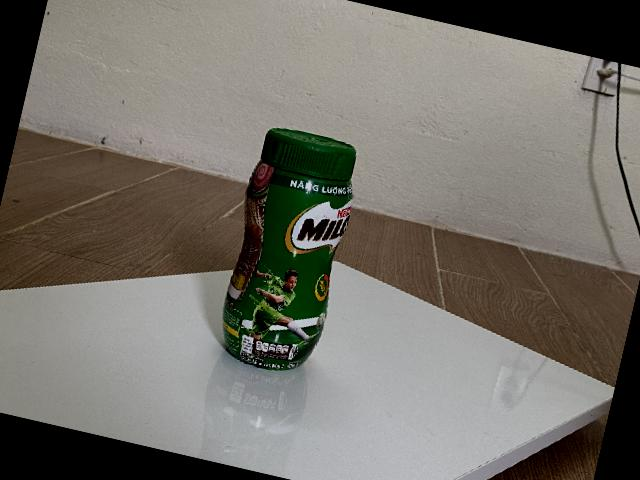milo: (220, 129, 357, 368)
